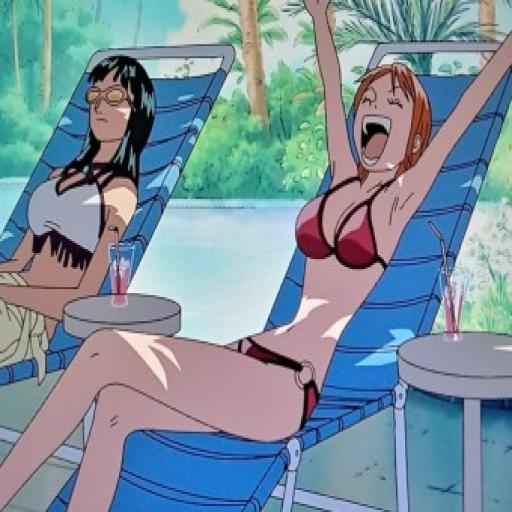Nami: (338, 46, 442, 183)
NicoRobin: (74, 38, 169, 175)
